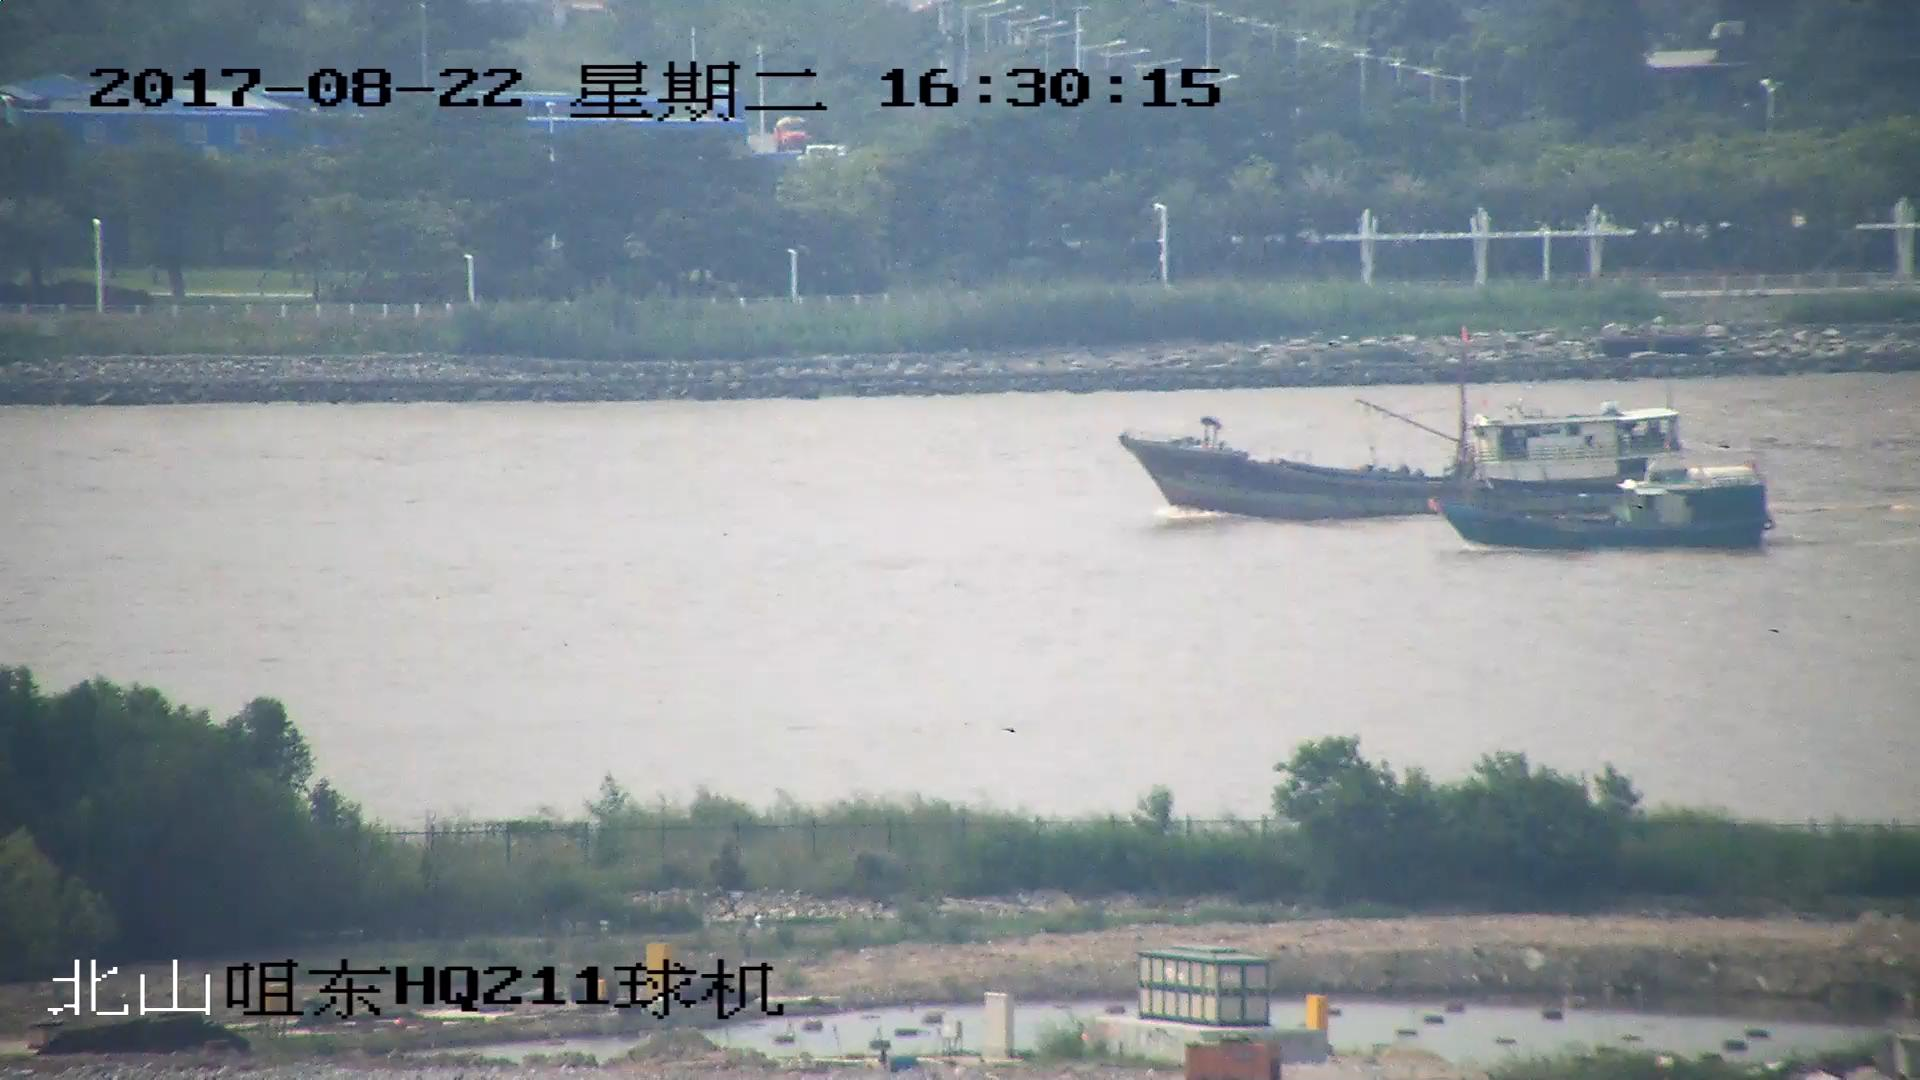fishing boat: (1116, 322, 1685, 518), (1440, 467, 1774, 554)
